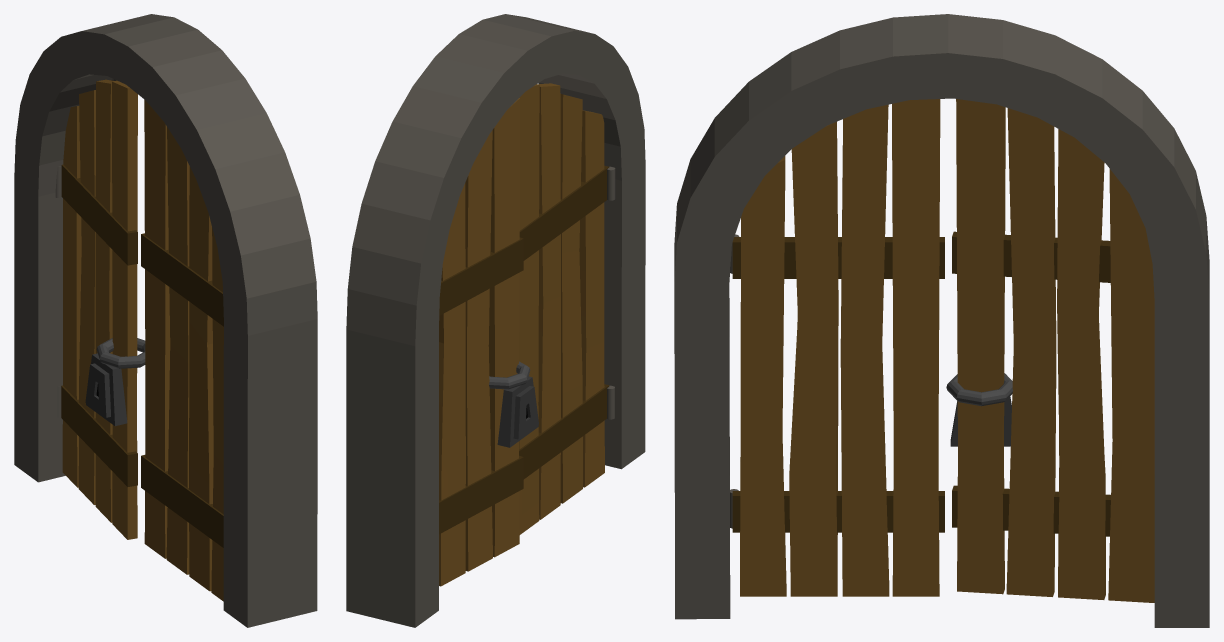
File: doornew.fbx
The picture shows the model from 3 angles, left to right: view 1: azimuth 30°, elevation 25°; view 2: azimuth 150°, elevation 25°; view 3: azimuth 270°, elevation 25°; orthographic projection. The views are drawn at different scales.
Visible parts, largest first — view 1: arka, rightdoor, leftdoor; view 2: arka, rightdoor, leftdoor; view 3: arka, rightdoor, leftdoor.
Boxes of the visible parts, <box> form: arka: <box>14,14,317,627</box>; rightdoor: <box>141,99,223,601</box>; leftdoor: <box>55,79,145,539</box>; arka: <box>346,14,645,627</box>; rightdoor: <box>519,83,615,534</box>; leftdoor: <box>439,98,538,586</box>; arka: <box>674,14,1209,627</box>; rightdoor: <box>730,99,944,596</box>; leftdoor: <box>946,99,1154,602</box>.
Size of the model in its own units: 73.14 by 405 by 342.
